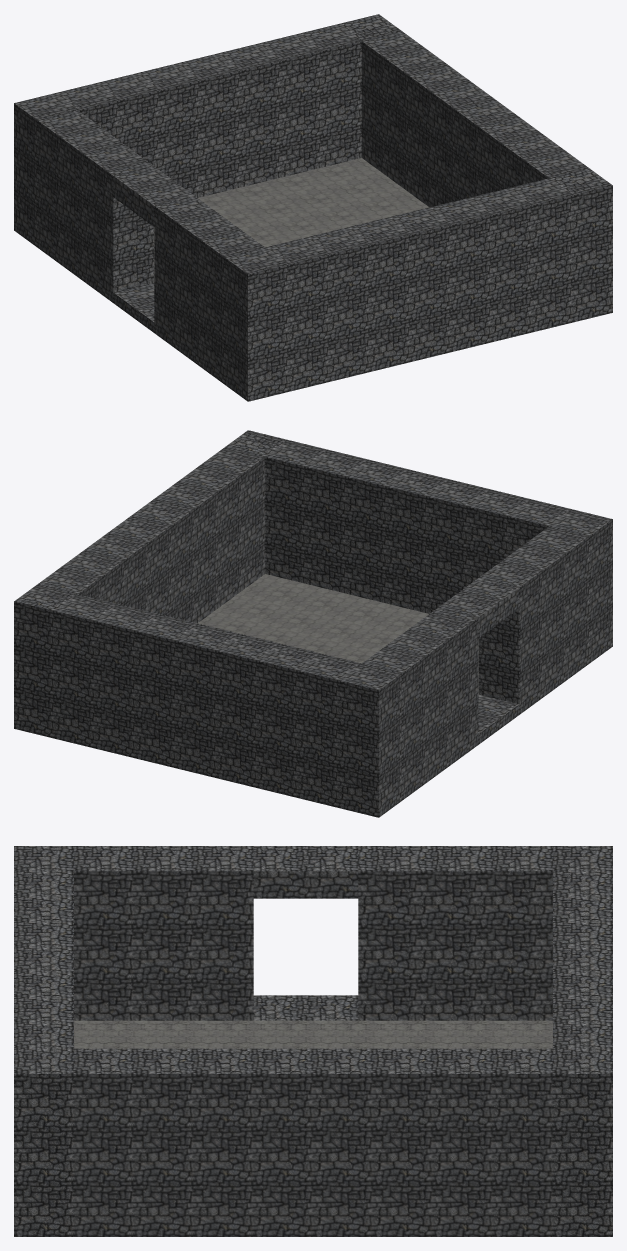
File: TestRoom.unity_8.obj
3 views of the same model, one above another, from view 1: azimuth 30°, elevation 25°; view 2: azimuth 150°, elevation 25°; view 3: azimuth 270°, elevation 25° (orthographic). The views are drawn at different scales.
Visible parts, largest first — view 1: HiddenWall, HiddenWall2, Wall2, Wall1, Floor; view 2: HiddenWall2, HiddenWall, Wall2, Wall1, Floor; view 3: Wall1, Wall2, HiddenWall2, HiddenWall, Floor.
Boxes of the visible parts, x1=… form: HiddenWall: x1=224, y1=168, x2=612, y2=401; HiddenWall2: x1=14, y1=14, x2=401, y2=246; Wall2: x1=37, y1=110, x2=264, y2=384; Wall1: x1=339, y1=15, x2=612, y2=319; Floor: x1=113, y1=158, x2=428, y2=332; HiddenWall2: x1=14, y1=584, x2=402, y2=817; HiddenWall: x1=228, y1=430, x2=612, y2=662; Wall2: x1=362, y1=526, x2=589, y2=800; Wall1: x1=14, y1=430, x2=287, y2=737; Floor: x1=198, y1=574, x2=519, y2=744; Wall1: x1=14, y1=1048, x2=612, y2=1236; Wall2: x1=74, y1=846, x2=552, y2=1020; HiddenWall2: x1=553, y1=846, x2=612, y2=1236; HiddenWall: x1=14, y1=846, x2=73, y2=1236; Floor: x1=74, y1=995, x2=552, y2=1048.
Bounding box in the file's own units: 9 × 3 × 10.
2 materials, 2 textured.
